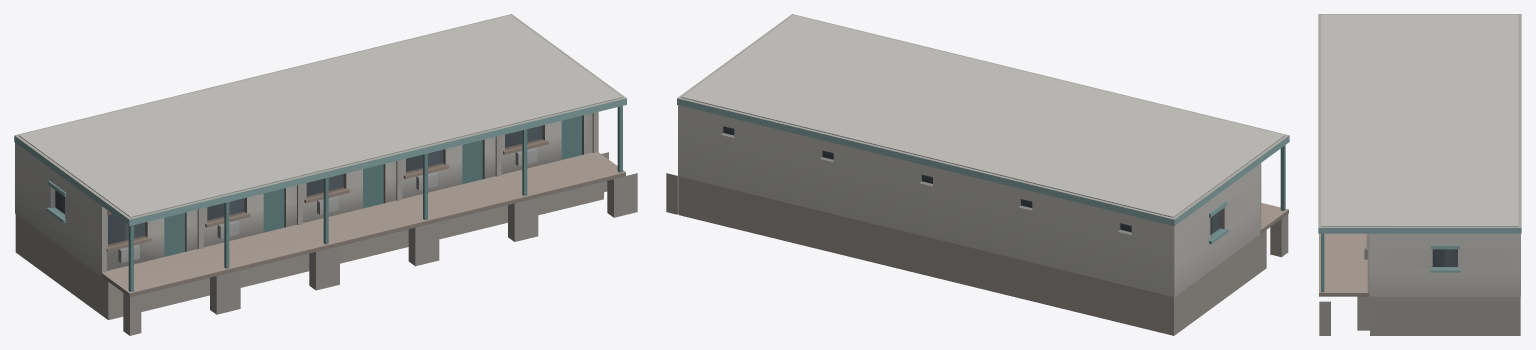
Rendered from rooms.lod1.glb.
3 renders of one model, left to right at view 1: azimuth 30°, elevation 25°; view 2: azimuth 150°, elevation 25°; view 3: azimuth 270°, elevation 25°, orthographic. The views are drawn at different scales.
Size of the model in its own units: 20.59 by 4.53 by 8.04.
